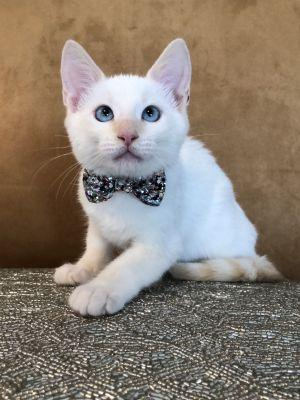siamese: (55, 32, 200, 184)
